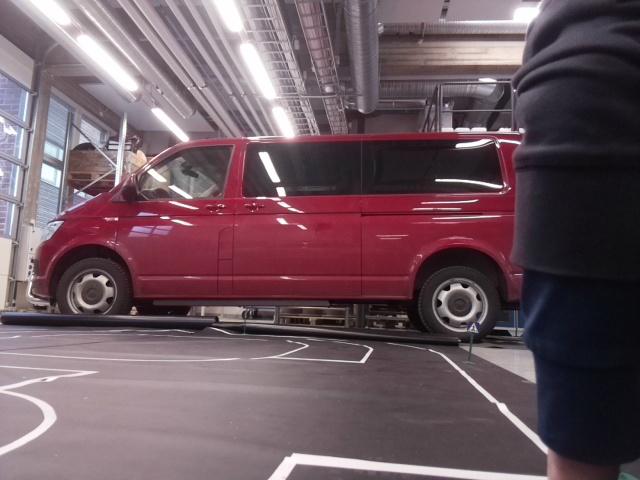Crosswalk: (465, 321, 480, 335)
